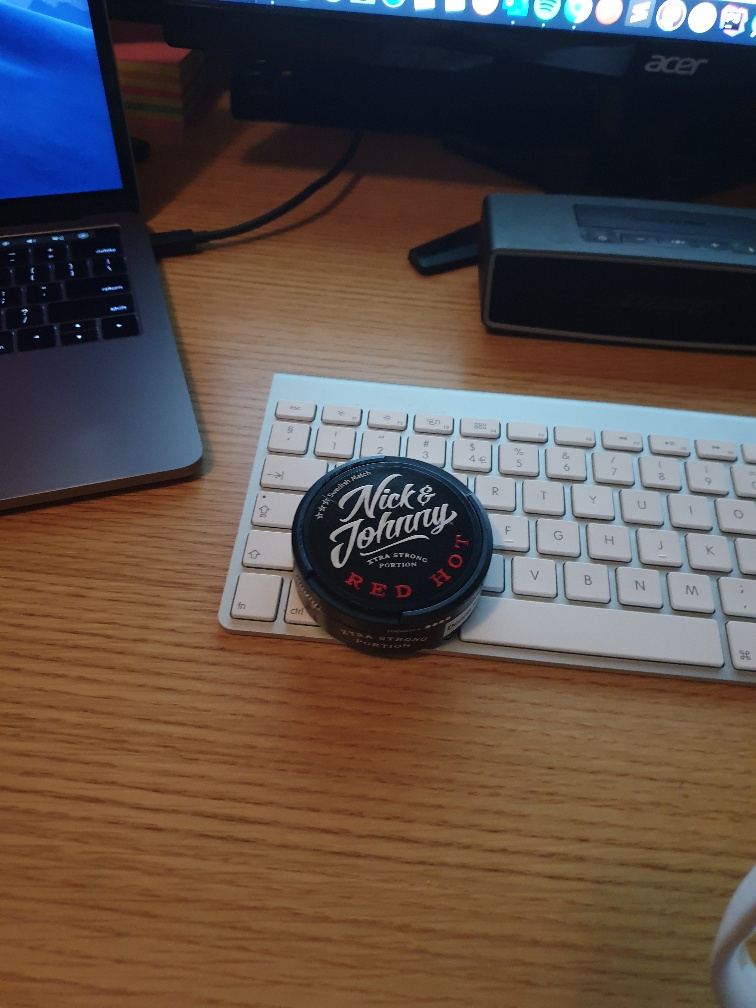snus: (277, 448, 504, 667)
